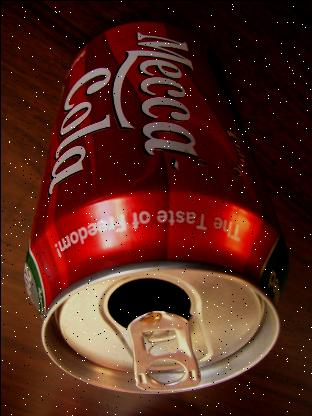Can: (16, 15, 292, 402)
